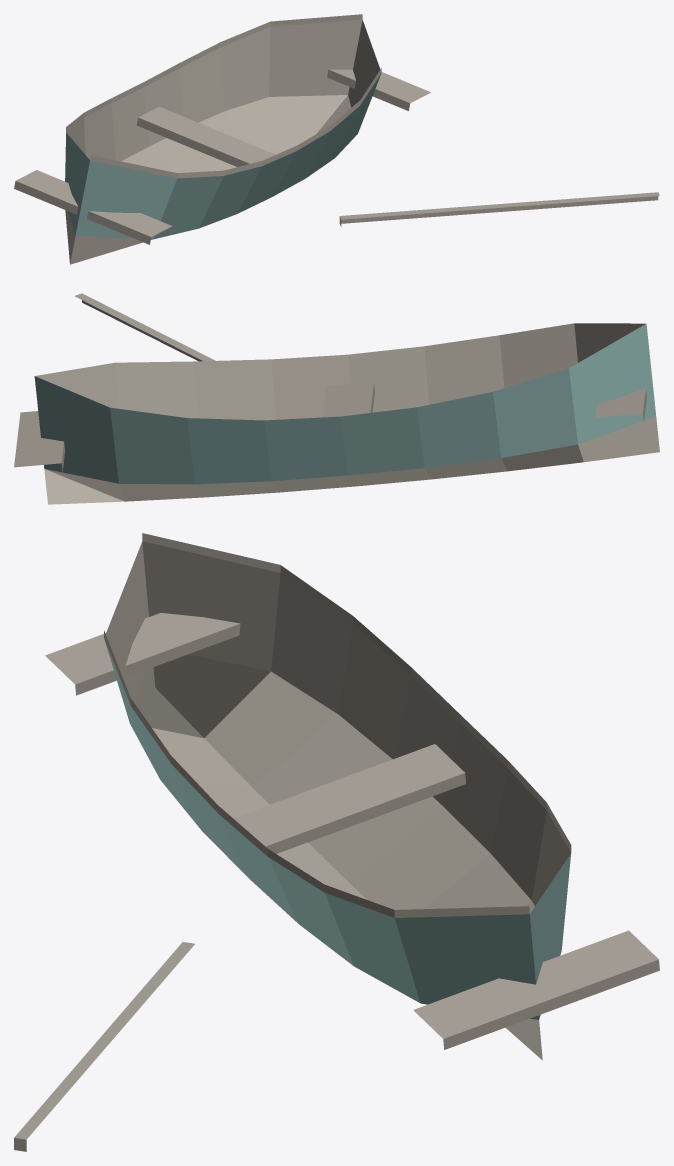
The model's file is barco_encalhado.glb.
The picture shows the model from 3 angles, top to bottom: view 1: azimuth 30°, elevation 25°; view 2: azimuth 150°, elevation 25°; view 3: azimuth 270°, elevation 25°; orthographic projection. The views are drawn at different scales.
Parts seen in each view (by area): view 1: Malha_0; view 2: Malha_0; view 3: Malha_0.
Boxes of the visible parts, x1,y1,x2,y2 form: Malha_0: [14, 14, 659, 264]; Malha_0: [14, 293, 659, 504]; Malha_0: [14, 533, 659, 1151].
Bounding box in the file's own units: 4.45 × 1.19 × 2.88.
